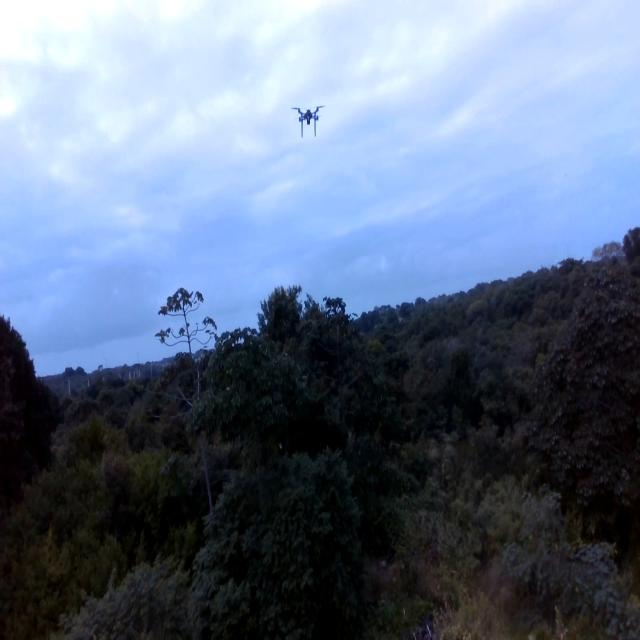-uav-: (288, 85, 337, 151)
